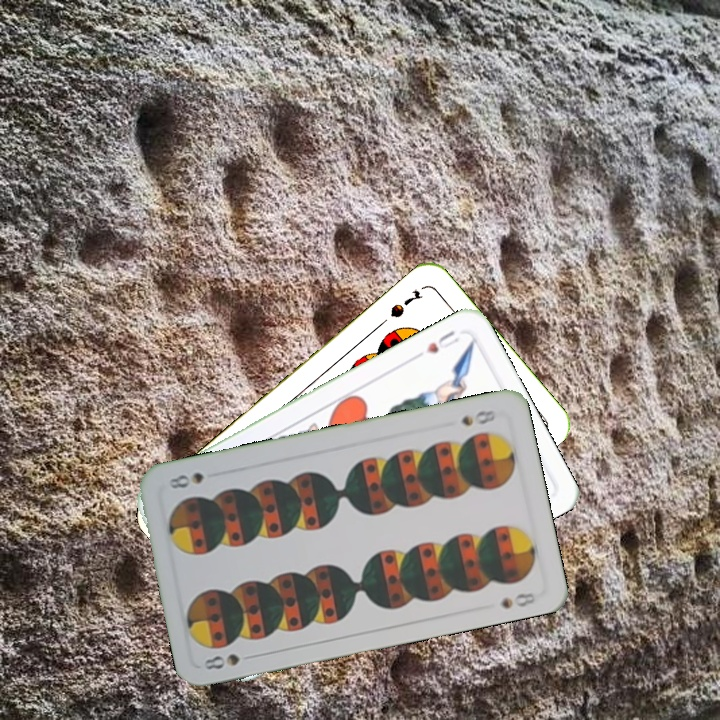HU: (422, 326, 462, 356)
S7: (386, 285, 426, 321)
S8: (199, 649, 259, 673), (456, 406, 499, 429)
